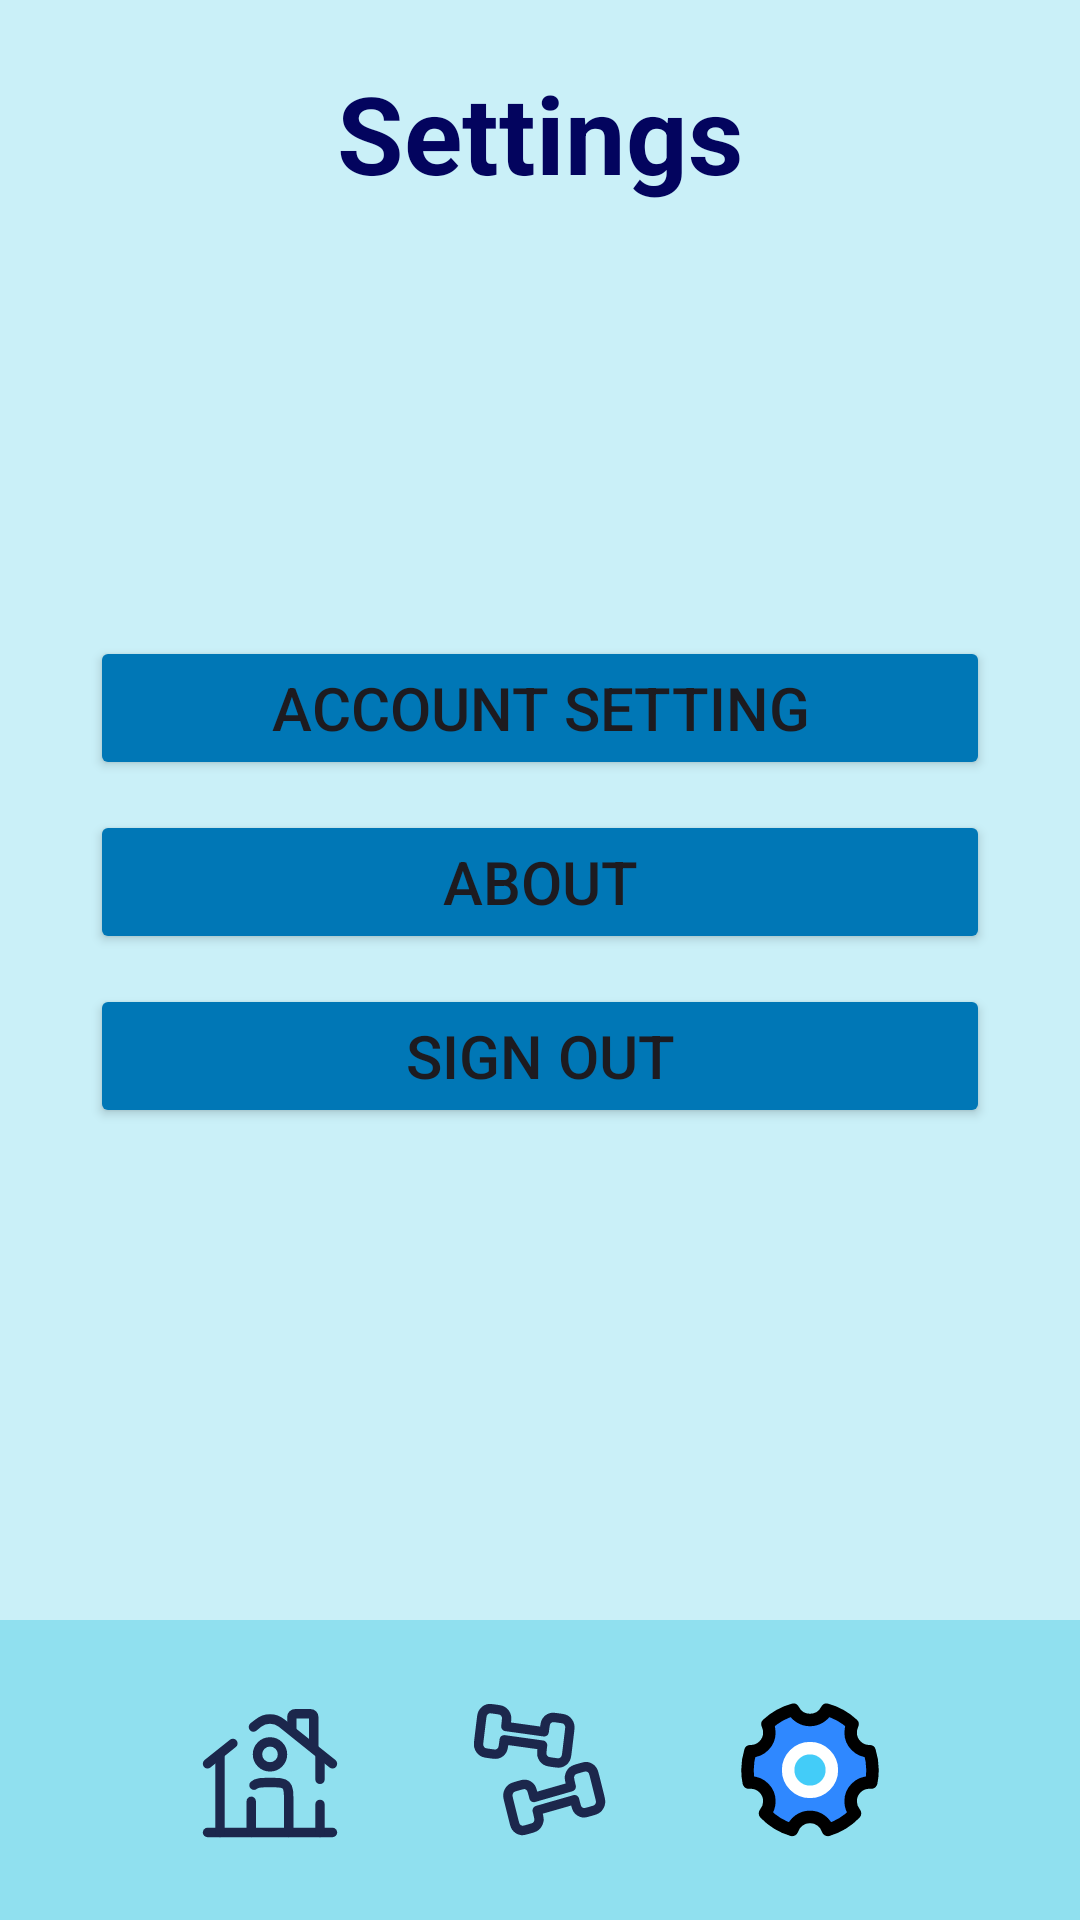

Screen size 1080x1920. Icon name, then its center in pixels as [x,y]:
dumbbells: [540,1770]
home: [270,1773]
setting: [810,1770]
